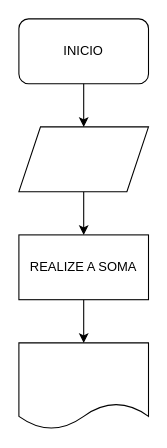
Some shapes in this 167 by 448 pixel diagram are drawn without their labels. Each missing label, with the box of its shape:
INFORME OS NUMEROS: (18, 126, 148, 192)
RESULTADO: (18, 342, 148, 429)
